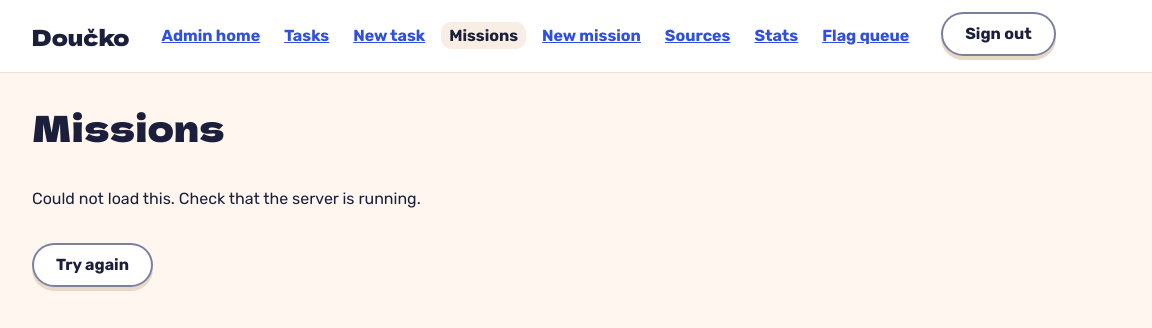
Test: mission list (FR-9) › shows a retry when the list cannot load
This screenshot has width=1152, height=328.
Check: the text "Could not load this. Check that the server is running." is shown, box [32,187,480,211]
Click the button "Try again" at (92, 265), box [32,243,153,287]
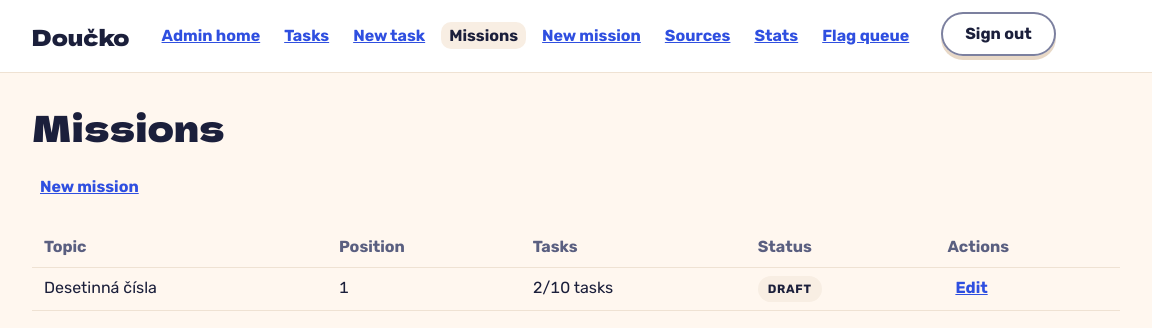
Check: the table is shown, box [32,227,1120,311]
